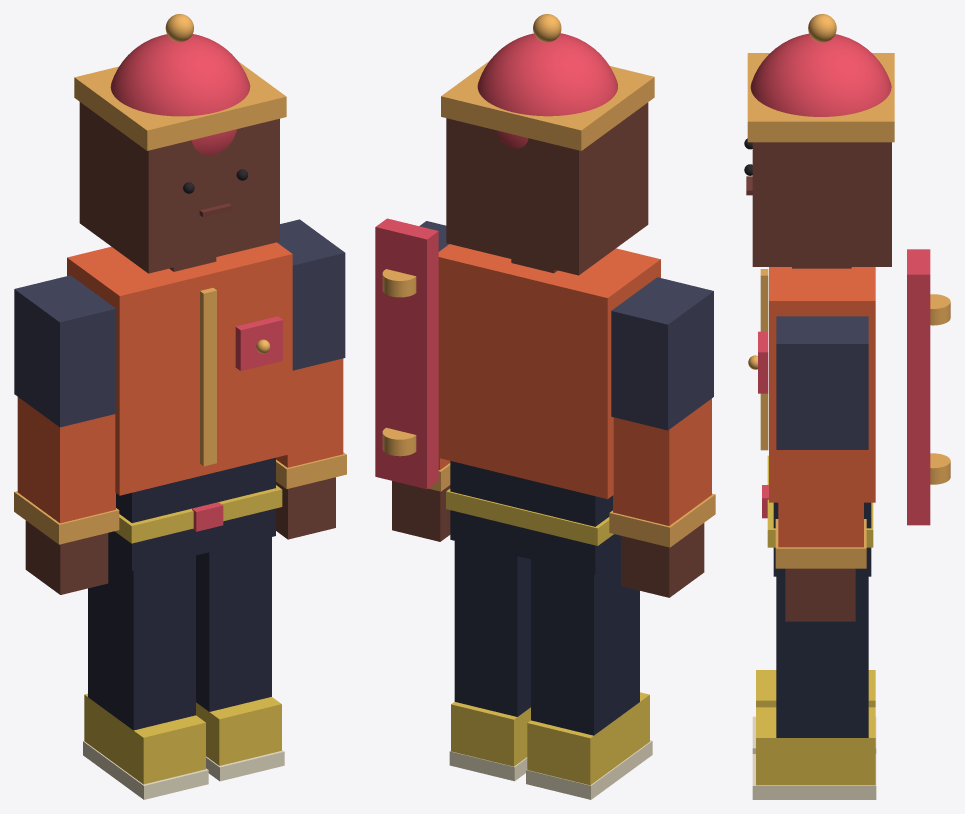
The model's file is jax_street_skater.glb.
3 views of the same model, side by side, from view 1: azimuth 30°, elevation 25°; view 2: azimuth 150°, elevation 25°; view 3: azimuth 270°, elevation 25° (orthographic).
Visible parts, largest first — view 1: jax_street_skater_torso, jax_street_skater_head, jax_street_skater_left_leg, jax_street_skater_left_upper_sleeve, jax_street_skater_right_leg, jax_street_skater_left_forearm, jax_street_skater_beanie, jax_street_skater_waist, jax_street_skater_right_upper_sleeve, jax_street_skater_beanie_fold, jax_street_skater_left_boot, jax_street_skater_right_forearm (+12 smaller); view 2: jax_street_skater_torso, jax_street_skater_head, jax_street_skater_left_leg, jax_street_skater_skate_deck, jax_street_skater_left_upper_sleeve, jax_street_skater_right_leg, jax_street_skater_waist, jax_street_skater_left_forearm, jax_street_skater_beanie, jax_street_skater_beanie_fold, jax_street_skater_left_boot, jax_street_skater_left_hand (+8 smaller); view 3: jax_street_skater_head, jax_street_skater_right_upper_sleeve, jax_street_skater_right_leg, jax_street_skater_beanie, jax_street_skater_torso, jax_street_skater_right_forearm, jax_street_skater_right_boot, jax_street_skater_skate_deck, jax_street_skater_beanie_fold, jax_street_skater_right_hand, jax_street_skater_right_cuff, jax_street_skater_right_sole (+7 smaller).
Boxes of the visible parts, left/top/right/bottom form: jax_street_skater_torso: left=67, top=242, right=292, bottom=495; jax_street_skater_head: left=79, top=102, right=279, bottom=273; jax_street_skater_left_leg: left=88, top=554, right=195, bottom=730; jax_street_skater_left_upper_sleeve: left=14, top=275, right=116, bottom=427; jax_street_skater_right_leg: left=196, top=537, right=271, bottom=711; jax_street_skater_left_forearm: left=17, top=397, right=115, bottom=523; jax_street_skater_beanie: left=110, top=34, right=250, bottom=155; jax_street_skater_waist: left=108, top=457, right=275, bottom=570; jax_street_skater_right_upper_sleeve: left=277, top=219, right=345, bottom=370; jax_street_skater_beanie_fold: left=74, top=61, right=286, bottom=150; jax_street_skater_left_boot: left=84, top=693, right=205, bottom=784; jax_street_skater_right_forearm: left=276, top=358, right=343, bottom=467; jax_street_skater_torso: left=438, top=244, right=660, bottom=499; jax_street_skater_head: left=446, top=102, right=648, bottom=275; jax_street_skater_left_leg: left=531, top=556, right=639, bottom=735; jax_street_skater_skate_deck: left=375, top=218, right=438, bottom=489; jax_street_skater_left_upper_sleeve: left=611, top=277, right=713, bottom=430; jax_street_skater_right_leg: left=454, top=541, right=530, bottom=716; jax_street_skater_waist: left=450, top=461, right=620, bottom=574; jax_street_skater_left_forearm: left=613, top=398, right=711, bottom=525; jax_street_skater_beanie: left=477, top=33, right=617, bottom=148; jax_street_skater_beanie_fold: left=441, top=61, right=654, bottom=150; jax_street_skater_left_boot: left=527, top=692, right=649, bottom=785; jax_street_skater_left_hand: left=621, top=523, right=704, bottom=597; jax_street_skater_head: left=752, top=142, right=891, bottom=266; jax_street_skater_right_upper_sleeve: left=776, top=316, right=868, bottom=449; jax_street_skater_right_leg: left=776, top=576, right=868, bottom=737; jax_street_skater_beanie: left=750, top=33, right=891, bottom=116; jax_street_skater_torso: left=769, top=267, right=875, bottom=502; jax_street_skater_right_forearm: left=778, top=450, right=863, bottom=547; jax_street_skater_right_boot: left=756, top=707, right=875, bottom=785; jax_street_skater_skate_deck: left=907, top=249, right=930, bottom=525; jax_street_skater_beanie_fold: left=747, top=53, right=894, bottom=142; jax_street_skater_right_hand: left=785, top=568, right=855, bottom=621; jax_street_skater_right_cuff: left=775, top=519, right=866, bottom=568; jax_street_skater_right_sole: left=752, top=754, right=876, bottom=799.
Size of the model in its own units: 0.516 by 1.27 by 0.3169.
